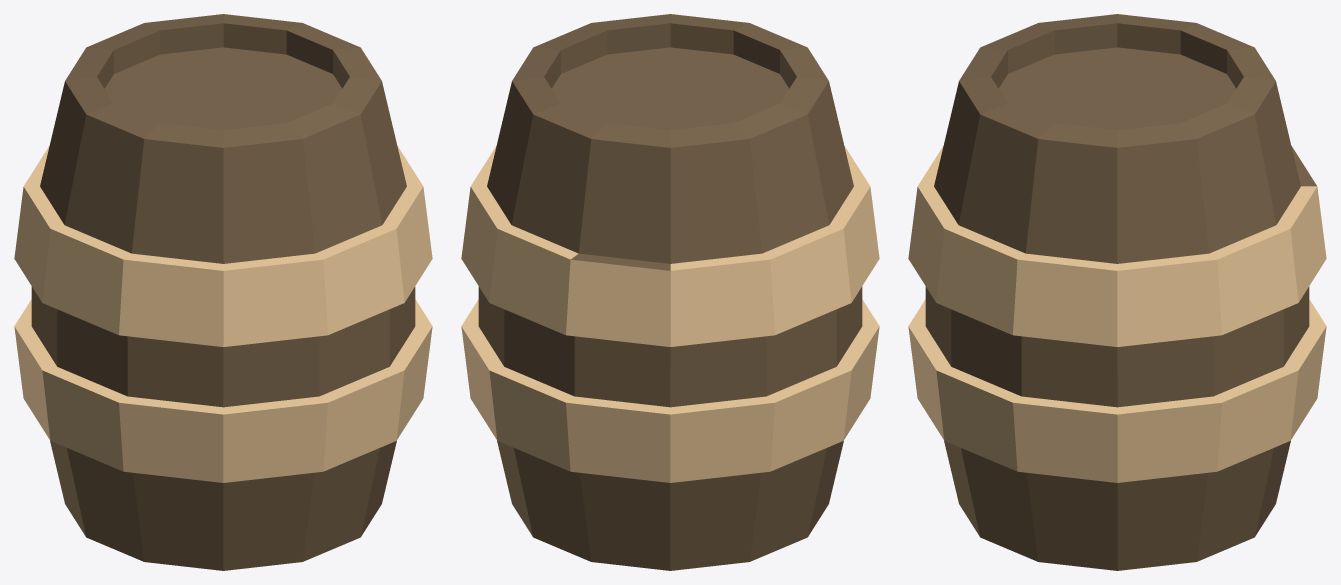
Rendered from PierBarrel.fbx.
3 renders of one model, left to right at view 1: azimuth 30°, elevation 25°; view 2: azimuth 150°, elevation 25°; view 3: azimuth 270°, elevation 25°, orthographic.
Parts seen in each view (by area): view 1: Cylinder.004; view 2: Cylinder.004; view 3: Cylinder.004.
Boxes of the visible parts, x1,y1,x2,y2 form: Cylinder.004: (14,14,432,570); Cylinder.004: (461,14,879,570); Cylinder.004: (908,14,1326,570).
Bounding box in the file's own units: 188 × 212 × 188.
